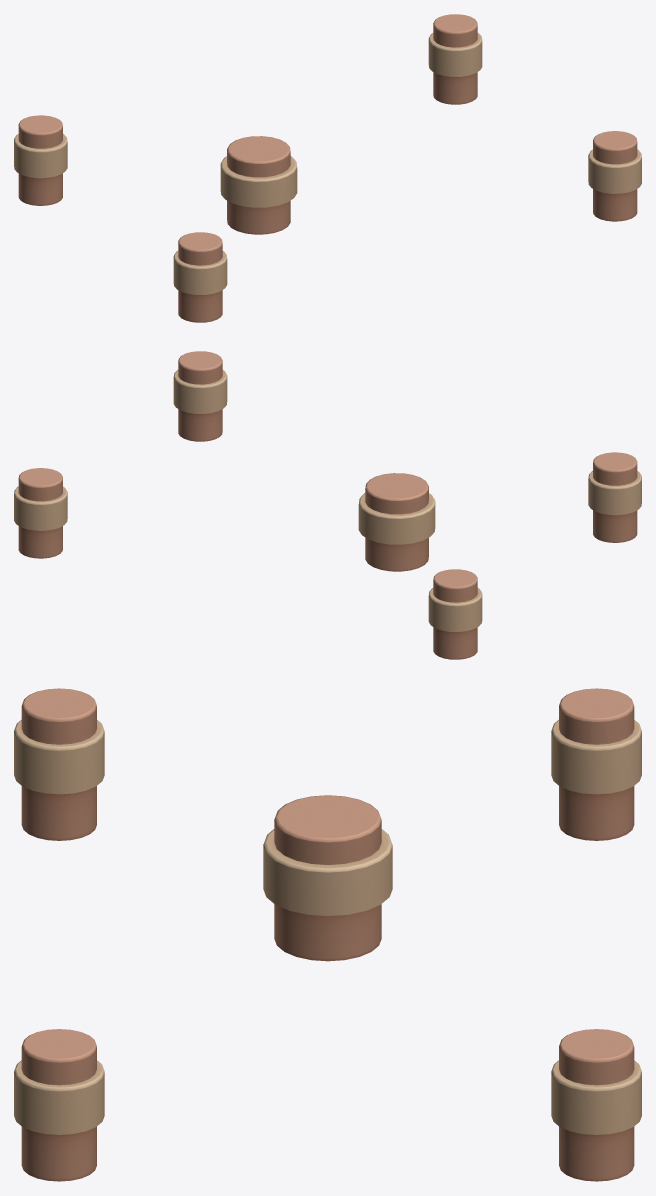
Rendered from Props.fbx.
3 views of the same model, one above another, from view 1: azimuth 30°, elevation 25°; view 2: azimuth 150°, elevation 25°; view 3: azimuth 270°, elevation 25° (orthographic). The views are drawn at different scales.
Visible parts, largest first — view 1: Cylinder, Cylinder-2, Cylinder-2 (2), Cylinder-2 (3), Cylinder-2 (1); view 2: Cylinder, Cylinder-2 (1), Cylinder-2 (3), Cylinder-2 (2), Cylinder-2; view 3: Cylinder, Cylinder-2, Cylinder-2 (1), Cylinder-2 (2), Cylinder-2 (3).
Boxes of the visible parts, left/top/right/bottom form: Cylinder: left=220, top=136, right=297, bottom=234; Cylinder-2: left=428, top=14, right=482, bottom=104; Cylinder-2 (2): left=173, top=232, right=227, bottom=322; Cylinder-2 (3): left=14, top=115, right=67, bottom=205; Cylinder-2 (1): left=588, top=131, right=641, bottom=221; Cylinder: left=358, top=473, right=435, bottom=571; Cylinder-2 (1): left=173, top=351, right=227, bottom=441; Cylinder-2 (3): left=428, top=569, right=482, bottom=659; Cylinder-2 (2): left=588, top=452, right=641, bottom=542; Cylinder-2: left=14, top=468, right=67, bottom=558; Cylinder: left=263, top=795, right=392, bottom=961; Cylinder-2: left=551, top=1029, right=641, bottom=1181; Cylinder-2 (1): left=14, top=1029, right=104, bottom=1181; Cylinder-2 (2): left=14, top=688, right=104, bottom=840; Cylinder-2 (3): left=551, top=688, right=641, bottom=840.
Size of the model in its own units: 33.38 by 5 by 23.38.
